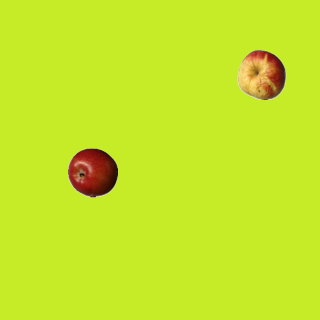Apple Braeburn: (67, 147, 117, 197)
Apple Red Yellow 1: (236, 49, 286, 99)
